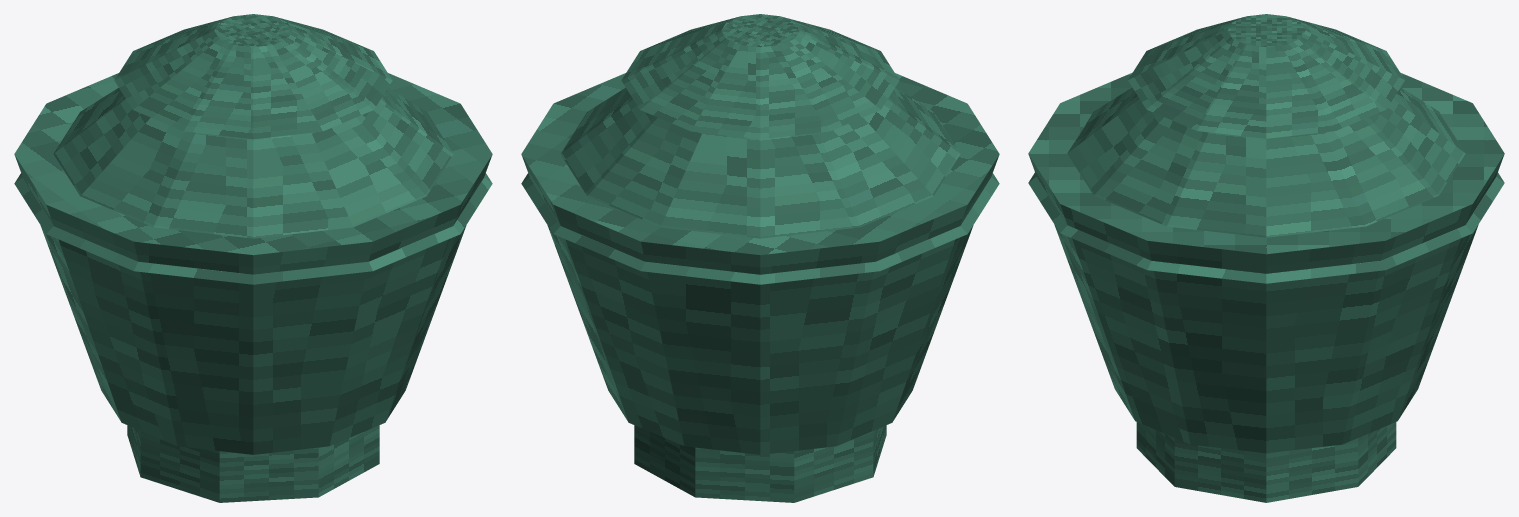
Rendered from urn_46.glb.
The picture shows the model from 3 angles, left to right: view 1: azimuth 30°, elevation 25°; view 2: azimuth 150°, elevation 25°; view 3: azimuth 270°, elevation 25°; orthographic projection.
Parts seen in each view (by area): view 1: Belly, Neck, Lid, Foot; view 2: Belly, Neck, Lid, Foot; view 3: Belly, Neck, Lid, Foot.
Boxes of the visible parts, bbox=[...] form: Belly: bbox=[14, 73, 492, 454]; Neck: bbox=[14, 87, 492, 284]; Lid: bbox=[114, 14, 392, 139]; Foot: bbox=[127, 425, 379, 502]; Belly: bbox=[521, 73, 999, 454]; Neck: bbox=[521, 87, 999, 284]; Lid: bbox=[621, 14, 899, 139]; Foot: bbox=[634, 425, 886, 502]; Belly: bbox=[1028, 72, 1504, 453]; Neck: bbox=[1028, 87, 1504, 283]; Lid: bbox=[1128, 14, 1404, 138]; Foot: bbox=[1136, 422, 1396, 502].
Size of the model in its own units: 1.22 by 1.18 by 1.22.
Materials: 1 (1 with a texture image).
